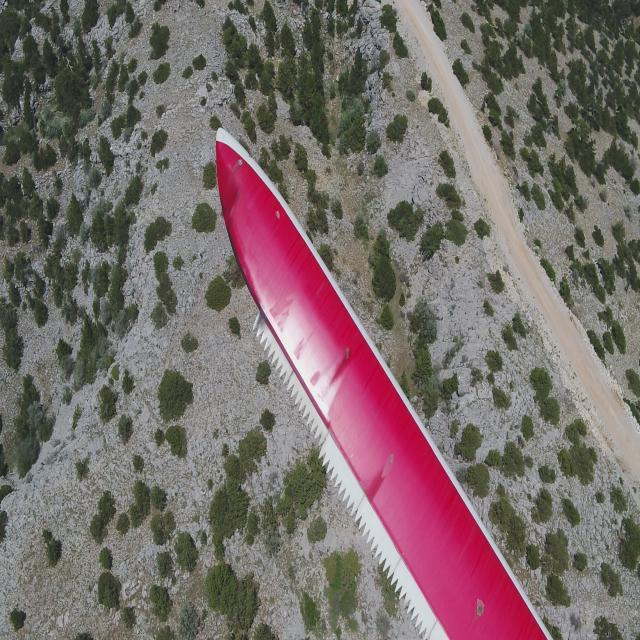Burn Mark: (217, 200, 263, 304)
Coating_defects: (381, 446, 400, 480), (471, 595, 490, 622), (339, 342, 354, 367), (275, 209, 282, 222)
